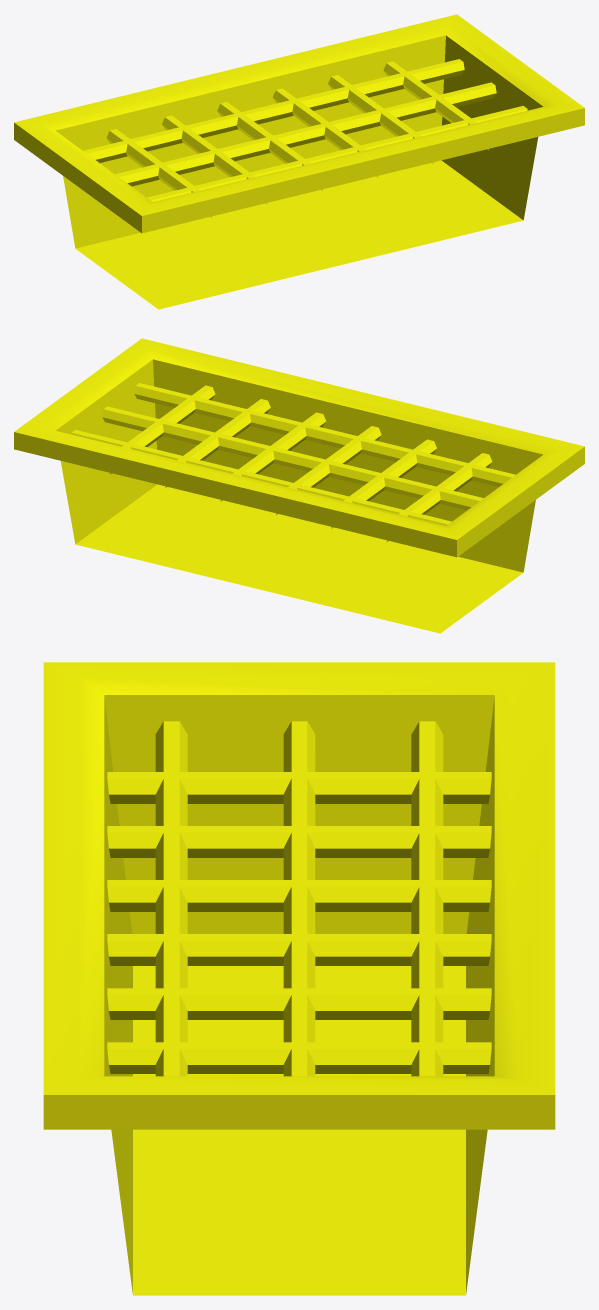
The model's file is kaykit-floor-tile-grate.glb.
The picture shows the model from 3 angles, top to bottom: view 1: azimuth 30°, elevation 25°; view 2: azimuth 150°, elevation 25°; view 3: azimuth 270°, elevation 25°; orthographic projection. The views are drawn at different scales.
Parts seen in each view (by area): view 1: floor_tile_grate; view 2: floor_tile_grate; view 3: floor_tile_grate.
Part boxes in pixels (<box>): floor_tile_grate: <box>14,14,584,309</box>; floor_tile_grate: <box>14,338,584,633</box>; floor_tile_grate: <box>43,662,555,1295</box>.
Size of the model in its own units: 4 by 1.03 by 2.
